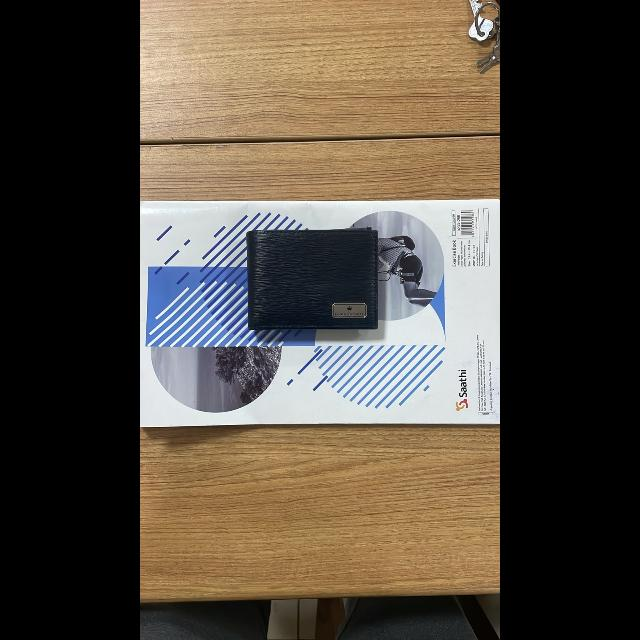wallet: (242, 219, 404, 351)
